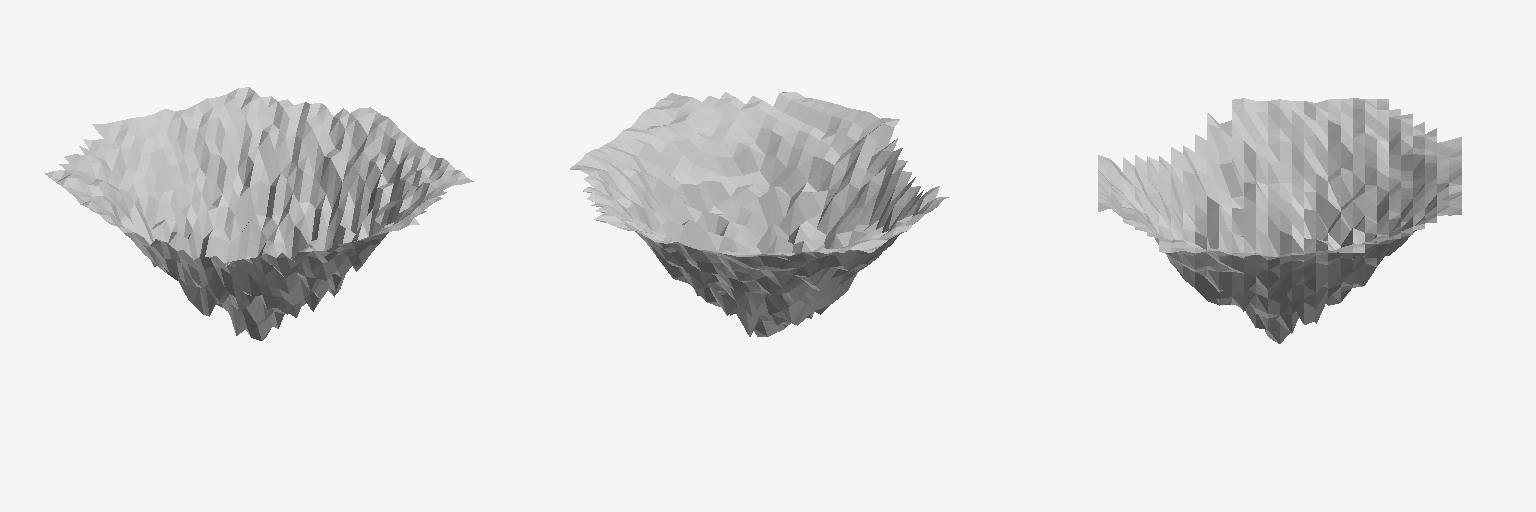
Rendered from Mountain3.obj.
3 views of the same model, side by side, from view 1: azimuth 30°, elevation 25°; view 2: azimuth 150°, elevation 25°; view 3: azimuth 270°, elevation 25° (orthographic).
Visible parts, largest first — view 1: Plane_Plane.002; view 2: Plane_Plane.002; view 3: Plane_Plane.002.
Boxes of the visible parts, box(x1,y1,x2,y2) form: Plane_Plane.002: box(45, 87, 473, 340); Plane_Plane.002: box(570, 92, 948, 336); Plane_Plane.002: box(1098, 98, 1461, 343).
Size of the model in its own units: 14.4 by 7.31 by 14.4.